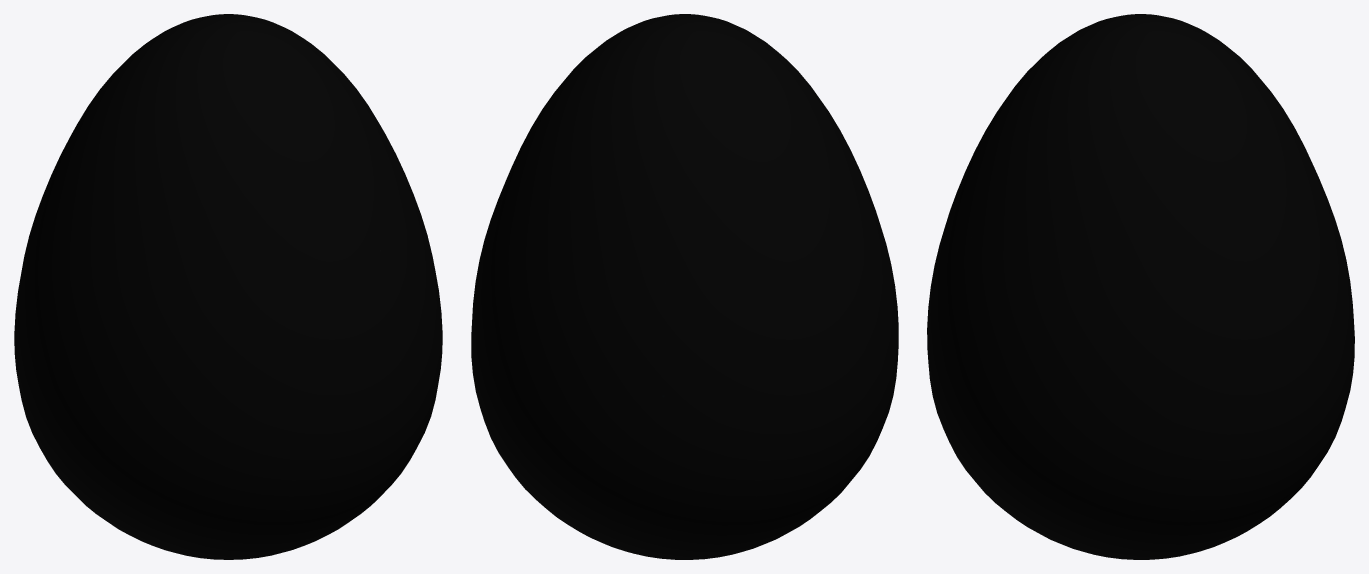
Rendered from egg_black.glb.
3 views of the same model, side by side, from view 1: azimuth 30°, elevation 25°; view 2: azimuth 150°, elevation 25°; view 3: azimuth 270°, elevation 25° (orthographic).
Visible parts, largest first — view 1: node_id264; view 2: node_id264; view 3: node_id264.
Boxes of the visible parts, <box> form: node_id264: <box>14,14,442,559</box>; node_id264: <box>471,14,898,559</box>; node_id264: <box>927,14,1354,559</box>.
Bounding box in the file's own units: 0.2929 × 0.3906 × 0.2929.
1 material, 1 textured.
